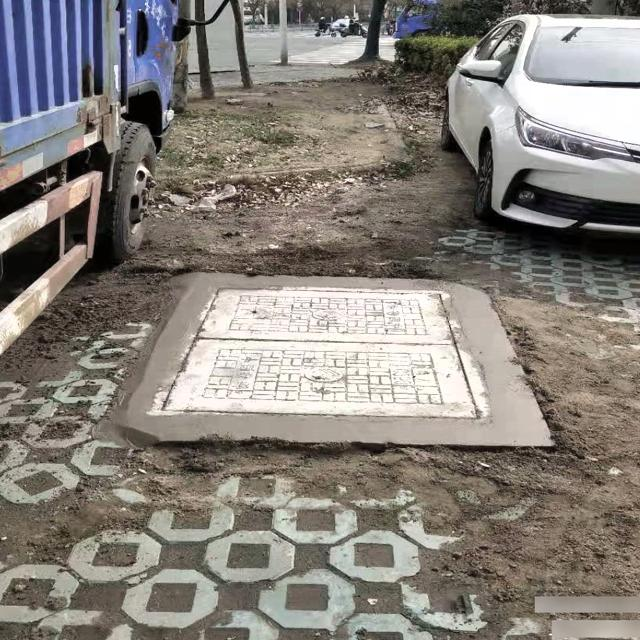good: (147, 284, 489, 420)
